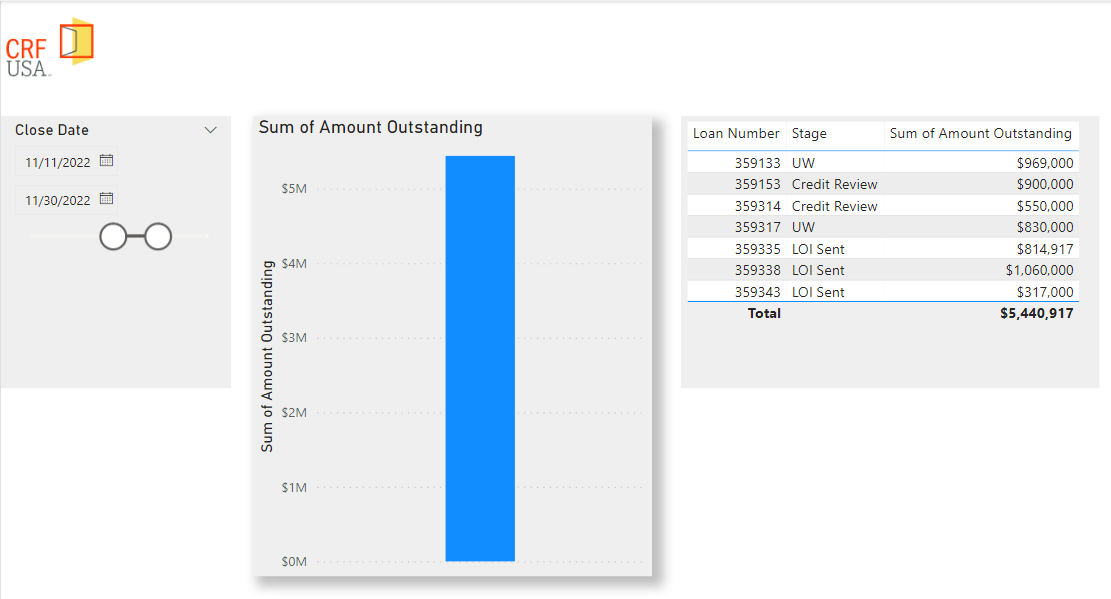

The dashboard page shown, as its layout file describes it:
{"tool":"powerbi","page":{"name":"Loans in Packaging or Entering","canvas":[1280,720],"ordinal":2},"visuals":[{"type":"clusteredColumnChart","fields":{"Y":["Sum(Loans in Packaging or entering.Amount Outstanding )"]},"box":[321.9,39.2,370.6,260.4],"z":1000},{"type":"slicer","fields":{"Values":["Loans in Packaging or entering.Close Date"]},"box":[51,39,214,253],"z":2001},{"type":"tableEx","fields":{"Values":["Loans in Packaging or entering.Loan Number","Loans in Packaging or entering.Stage","Sum(Loans in Packaging or entering.Amount Outstanding )"]},"box":[664.9,42.3,389.6,253],"z":2002}]}

Visuals, with their boxes on the page's 1280x720 design canvas (x1, y1, x2, y2). These are canvas units, not pixel positions in the 1111x599 screenshot, which may show the page scaled, cropped or inside an application window:
clusteredColumnChart - Sum(Loans in Packaging or entering.Amount Outstanding ): bbox(322, 39, 692, 300)
slicer - Loans in Packaging or entering.Close Date: bbox(51, 39, 265, 292)
tableEx - Loans in Packaging or entering.Loan Number x Loans in Packaging or entering.Stage: bbox(665, 42, 1054, 295)
